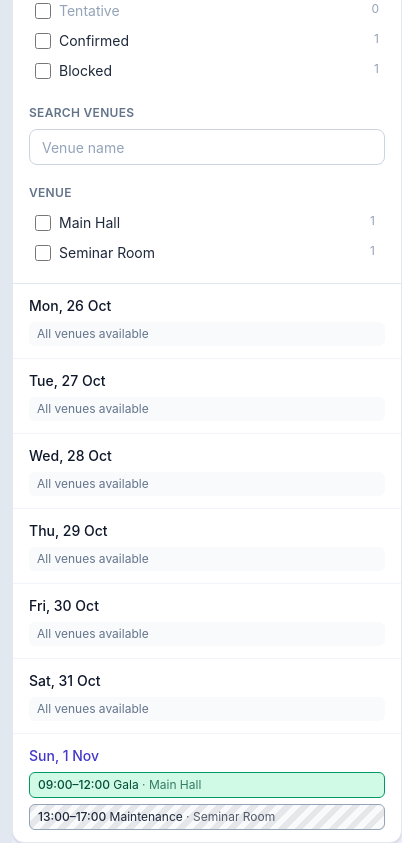
Test: US-16 AC-1, AC-6: blocked-out time is told apart from bookings › opens a blocked period as "Blocked out", with its reason and who set it
The width and height of the screenshot is (402, 843).
(page scrolled)
Click the button "13:00–17:00 Maintenance · Seminar Room" at (207, 817), box [29,804,385,830]
(page scrolled)
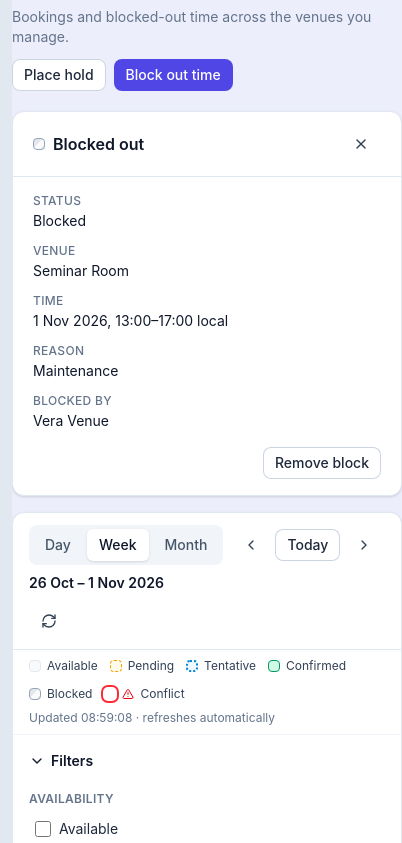
Expected: the heading "Blocked out" is shown, [53,132,144,156]
Expected: the text "Reason" is shown, [33,343,84,358]
Expected: the text "Blocked by" is shown, [33,393,112,408]
